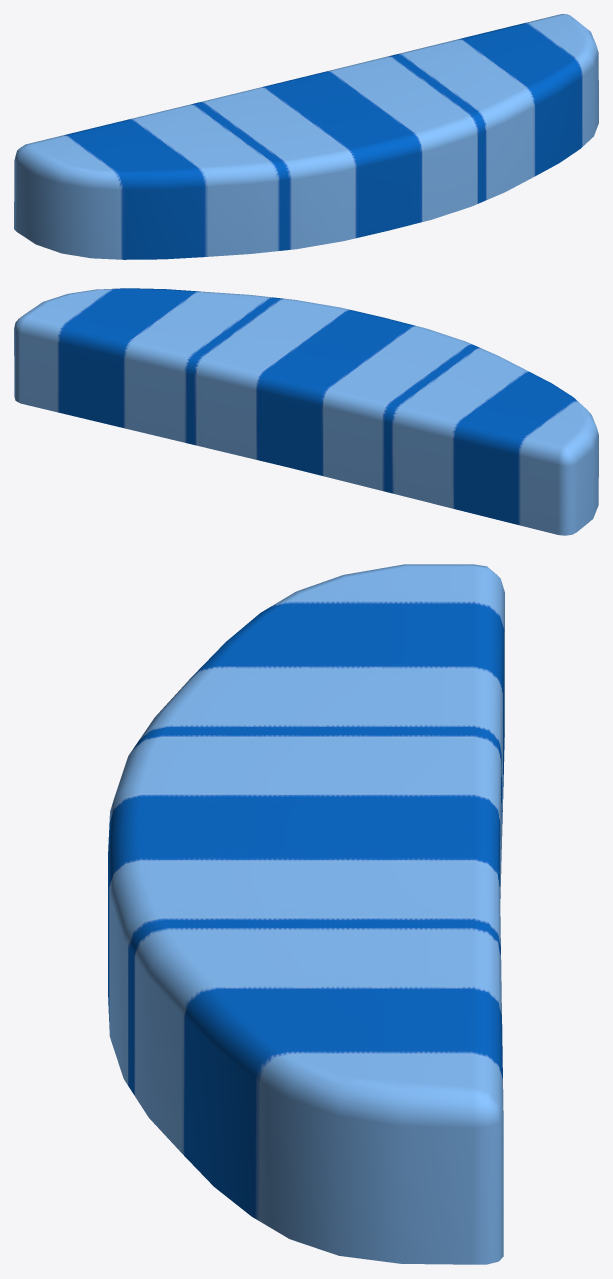
File: rebound.fbx
3 views of the same model, one above another, from view 1: azimuth 30°, elevation 25°; view 2: azimuth 150°, elevation 25°; view 3: azimuth 270°, elevation 25° (orthographic). The views are drawn at different scales.
Parts seen in each view (by area): view 1: rebound; view 2: rebound; view 3: rebound.
Part boxes in pixels (x1,y1,x2,y2): rebound: [14, 14, 598, 259]; rebound: [14, 288, 598, 535]; rebound: [108, 564, 504, 1264].
Bounding box in the file's own units: 1052 × 153 × 323.
1 material, 1 textured.
